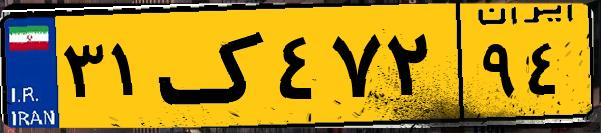1: (110, 28, 158, 98)
2: (385, 28, 445, 110)
3: (57, 26, 110, 100)
4: (270, 28, 330, 110), (525, 38, 570, 115)
7: (330, 28, 385, 110)
9: (475, 38, 525, 113)
ک: (158, 12, 270, 120)
